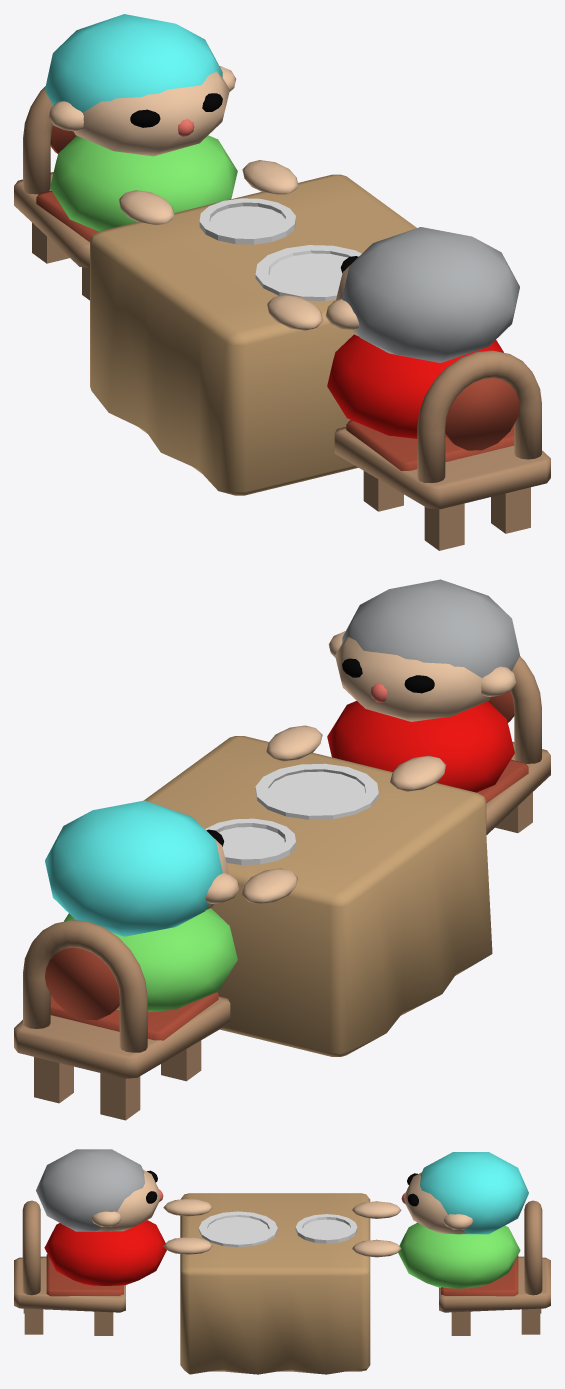
Rendered from RestarauntPeople1.glb.
3 renders of one model, top to bottom at view 1: azimuth 30°, elevation 25°; view 2: azimuth 150°, elevation 25°; view 3: azimuth 270°, elevation 25°, orthographic. The views are drawn at different scales.
Parts seen in each view (by area): view 1: Cylinder.017; view 2: Cylinder.017; view 3: Cylinder.017.
Boxes of the visible parts, x1,y1,x2,y2 form: Cylinder.017: [14, 14, 550, 550]; Cylinder.017: [14, 579, 550, 1120]; Cylinder.017: [14, 1149, 550, 1374].
Size of the model in its own units: 3.78 by 3.54 by 9.6.
